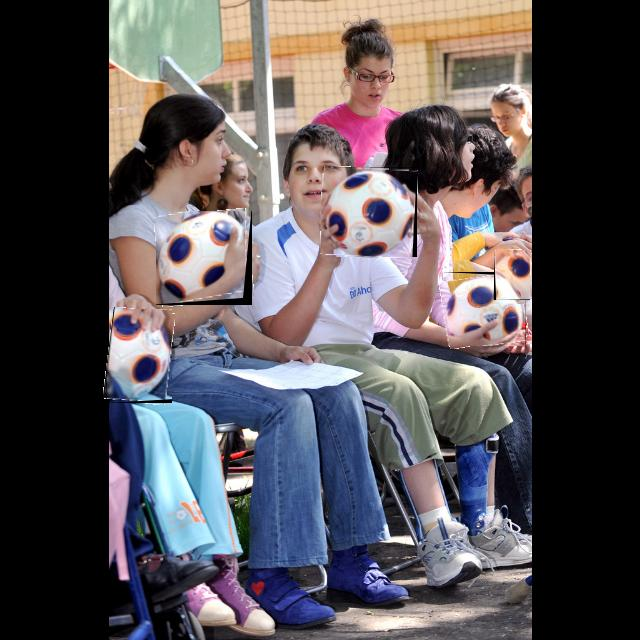Football: (156, 211, 252, 305), (321, 167, 417, 257), (442, 272, 526, 346), (106, 309, 172, 403), (494, 250, 530, 300)
